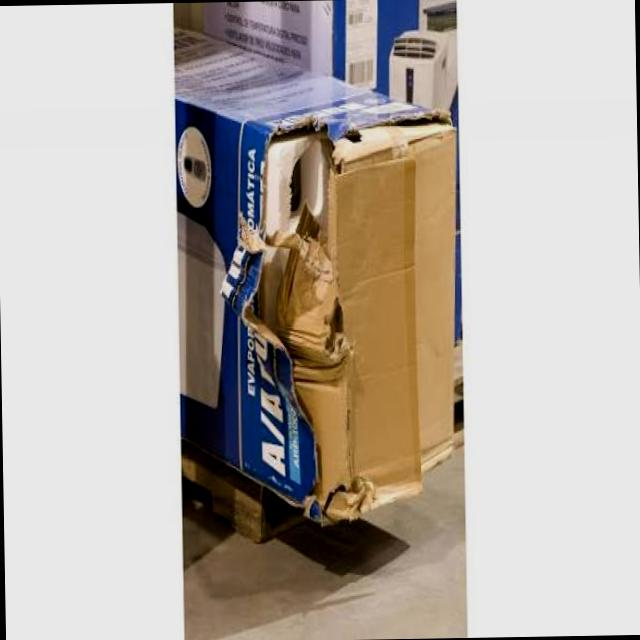carton_box: (172, 11, 467, 582)
package_damage: (220, 81, 467, 528)
